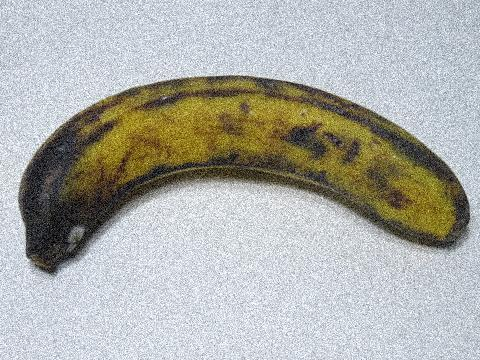overripe: (5, 60, 479, 278)
rotten: (9, 129, 135, 267)
